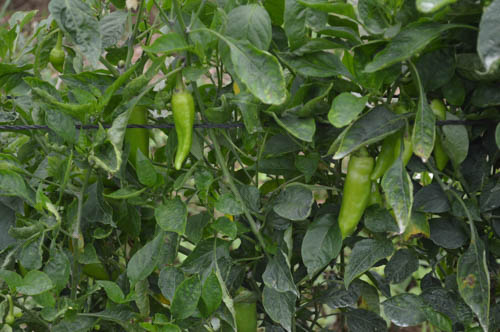ChiliPepper: (372, 109, 412, 192), (162, 91, 200, 170), (339, 156, 371, 242), (119, 98, 150, 168), (425, 98, 451, 167), (230, 288, 259, 332), (48, 50, 65, 74)
